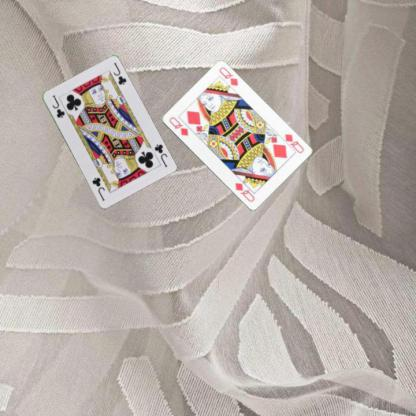Jc: (151, 142, 169, 168), (49, 92, 66, 119)
Qd: (277, 131, 305, 154), (166, 114, 189, 137)
